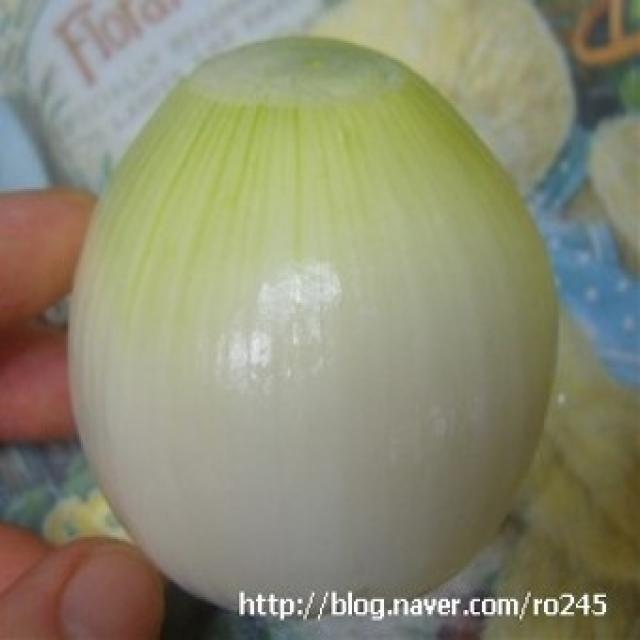onion: (46, 32, 594, 626)
